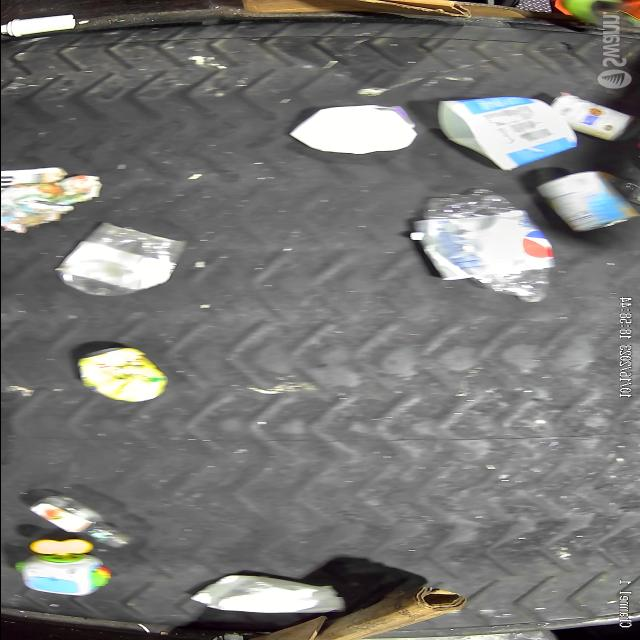can: (537, 170, 640, 233), (77, 346, 169, 402)
plastic_bottle: (422, 188, 550, 302), (27, 495, 135, 547)
